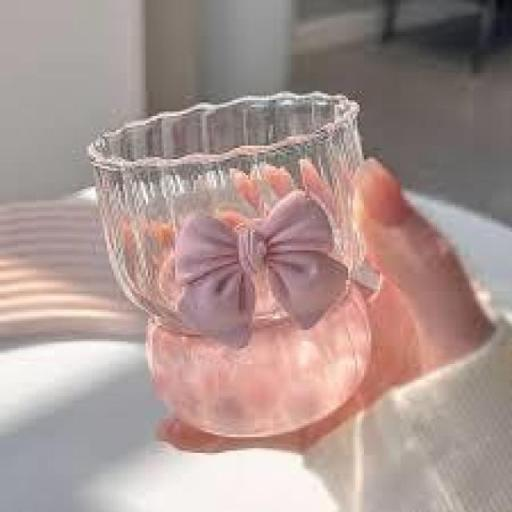glass: (90, 92, 382, 442)
